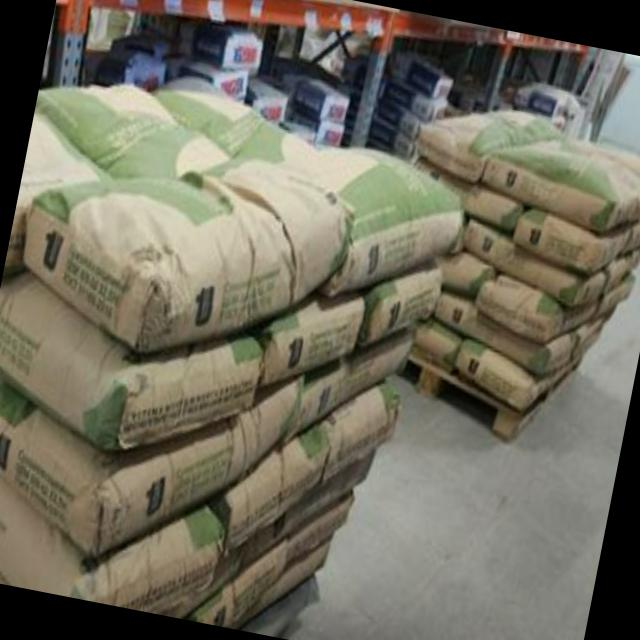KantongSemen: (0, 53, 481, 640), (365, 86, 640, 431)
